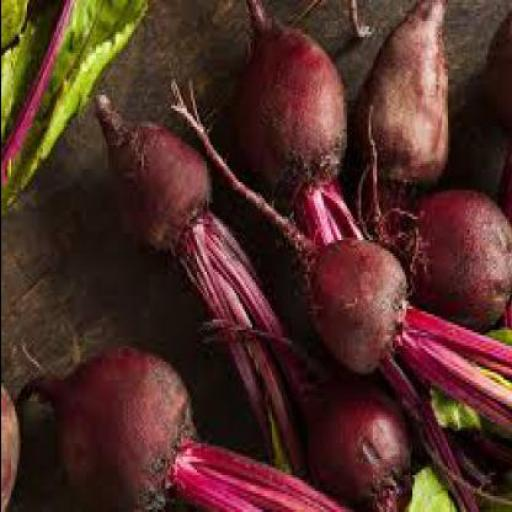biodegradable: (180, 206, 316, 496), (2, 0, 148, 214), (20, 344, 196, 510), (385, 300, 511, 511), (235, 1, 350, 195), (290, 340, 418, 509), (98, 88, 216, 254), (357, 0, 449, 191), (298, 222, 413, 366), (401, 182, 511, 331), (174, 433, 364, 510), (484, 2, 510, 332), (296, 180, 372, 258), (474, 324, 512, 442), (424, 380, 488, 436), (2, 382, 21, 510), (408, 462, 456, 509), (2, 0, 30, 48)
